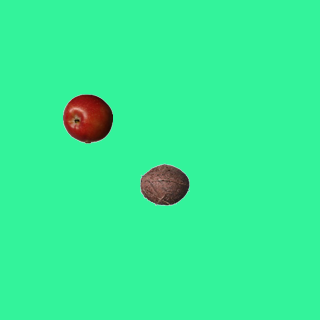Apple Braeburn: (62, 93, 112, 143)
Cocos: (139, 159, 189, 209)
